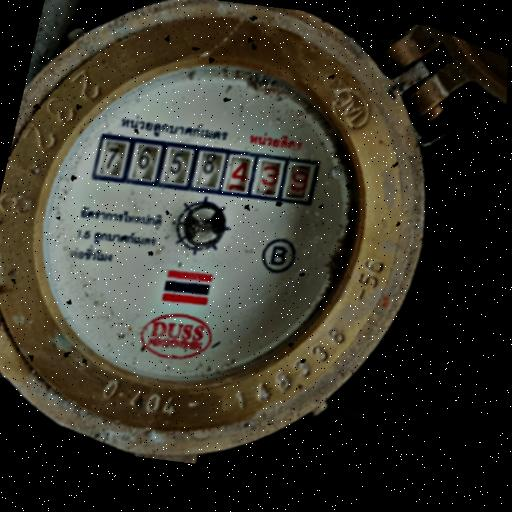3: (255, 159, 281, 198)
4: (225, 156, 252, 195)
5: (164, 149, 190, 186)
6: (131, 145, 159, 182)
7: (100, 142, 126, 178)
8: (197, 153, 222, 189)
9: (285, 164, 311, 199)
border_water_meter_number: (90, 117, 324, 222)
